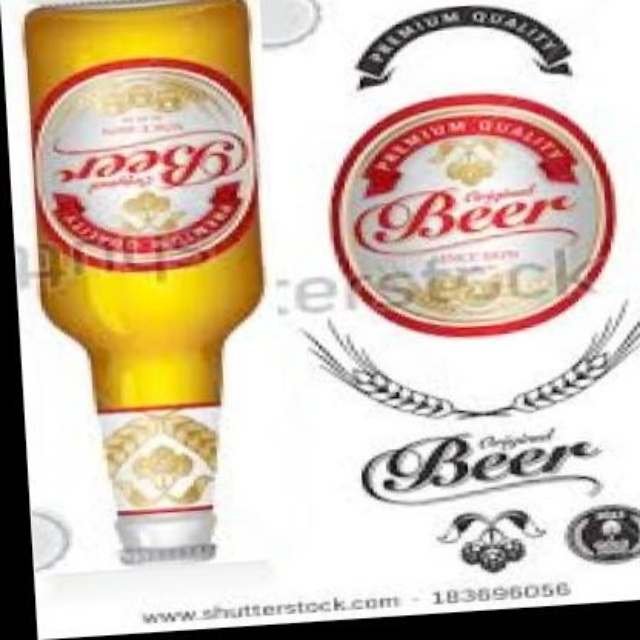trash: (25, 0, 262, 562)
